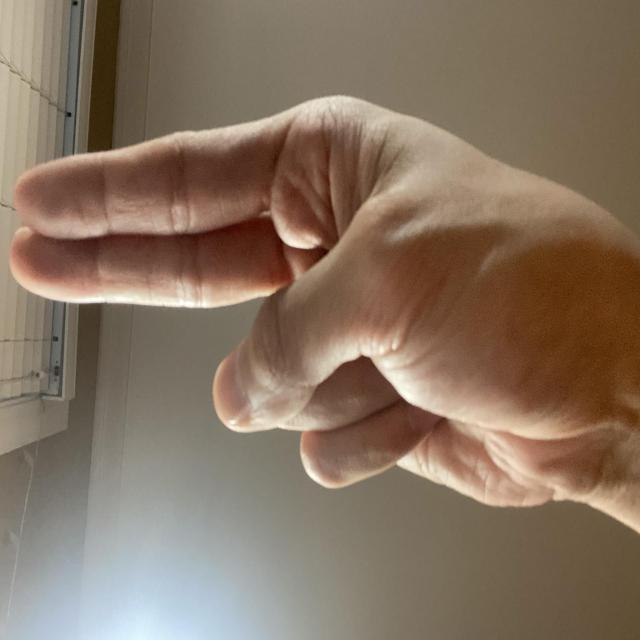U: (85, 0, 418, 640)
